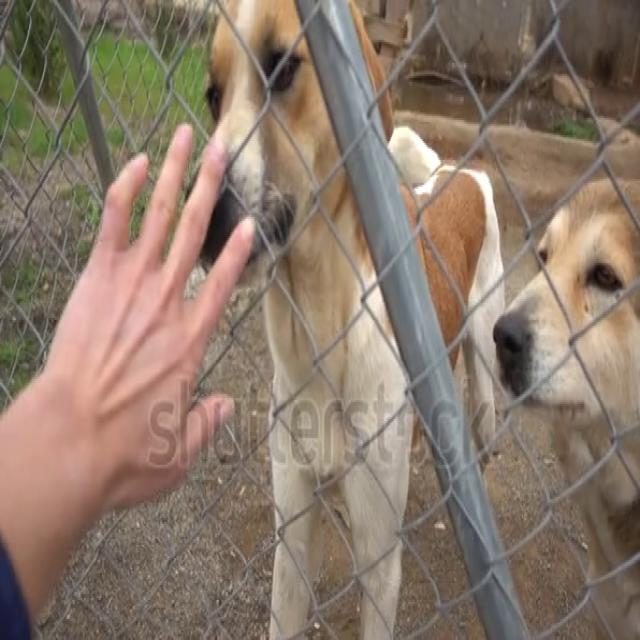normal_animals: (195, 0, 508, 638), (477, 144, 640, 538)
